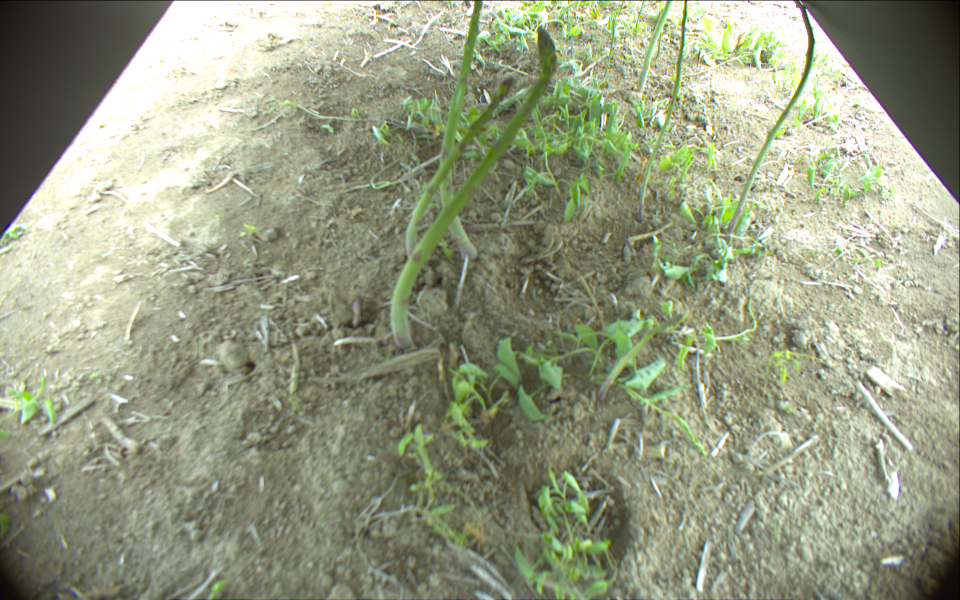aspa: (390, 26, 558, 350), (728, 1, 815, 235), (404, 76, 515, 259), (636, 1, 689, 222), (440, 1, 484, 259), (635, 1, 673, 92), (603, 19, 618, 77), (352, 297, 361, 329), (656, 29, 663, 58)
